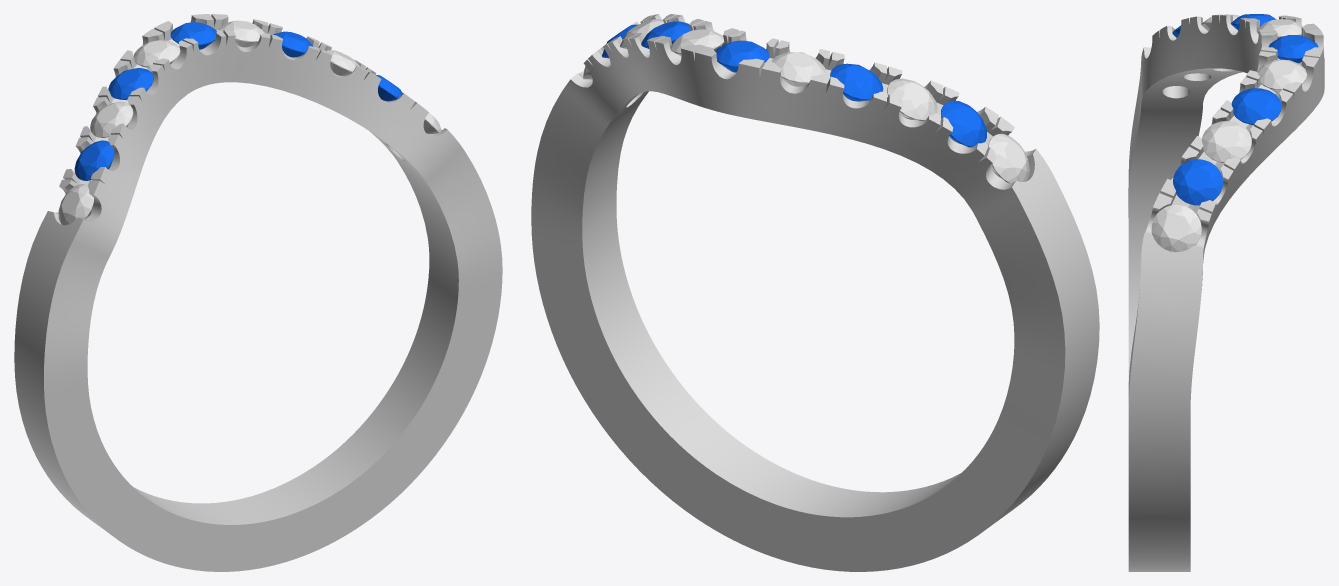
File: DaniellePTwb1_blender.glb
3 views of the same model, side by side, from view 1: azimuth 30°, elevation 25°; view 2: azimuth 150°, elevation 25°; view 3: azimuth 270°, elevation 25° (orthographic). The views are drawn at different scales.
Parts seen in each view (by area): view 1: Danielle 1 PT for 3d model, Danielle sapph wb for 3d model.004, Danielle dia for 3d model.005, Danielle dia for 3d model.004, Danielle sapph wb for 3d model.003, Danielle dia for 3d model.003, Danielle sapph wb for 3d model.002, Danielle dia for 3d model.002, Danielle sapph wb for 3d model.001; view 2: Danielle 1 PT for 3d model, Danielle dia for 3d model.005, Danielle sapph wb for 3d model.004, Danielle dia for 3d model.004, Danielle sapph wb for 3d model.003, Danielle dia for 3d model.003, Danielle sapph wb for 3d model.002, Danielle dia for 3d model.002; view 3: Danielle 1 PT for 3d model, Danielle dia for 3d model, Danielle sapph wb for 3d model, Danielle dia for 3d model.001, Danielle sapph wb for 3d model.001, Danielle dia for 3d model.002, Danielle sapph wb for 3d model.002, Danielle dia for 3d model.003, Danielle sapph wb for 3d model.003.
Part boxes in pixels (x1=…): Danielle 1 PT for 3d model: x1=14, y1=14, x2=502, y2=571; Danielle sapph wb for 3d model.004: x1=74, y1=140, x2=114, y2=180; Danielle dia for 3d model.005: x1=58, y1=184, x2=93, y2=225; Danielle dia for 3d model.004: x1=90, y1=101, x2=133, y2=137; Danielle sapph wb for 3d model.003: x1=108, y1=68, x2=153, y2=99; Danielle dia for 3d model.003: x1=133, y1=40, x2=180, y2=68; Danielle sapph wb for 3d model.002: x1=170, y1=22, x2=216, y2=49; Danielle dia for 3d model.002: x1=219, y1=20, x2=264, y2=47; Danielle sapph wb for 3d model.001: x1=270, y1=31, x2=313, y2=57; Danielle 1 PT for 3d model: x1=531, y1=14, x2=1099, y2=571; Danielle dia for 3d model.005: x1=988, y1=134, x2=1029, y2=183; Danielle sapph wb for 3d model.004: x1=941, y1=100, x2=986, y2=147; Danielle dia for 3d model.004: x1=887, y1=78, x2=937, y2=120; Danielle sapph wb for 3d model.003: x1=830, y1=63, x2=883, y2=100; Danielle dia for 3d model.003: x1=771, y1=52, x2=825, y2=86; Danielle sapph wb for 3d model.002: x1=715, y1=40, x2=769, y2=72; Danielle dia for 3d model.002: x1=670, y1=29, x2=724, y2=55; Danielle 1 PT for 3d model: x1=1128, y1=15, x2=1324, y2=571; Danielle dia for 3d model: x1=1151, y1=205, x2=1201, y2=252; Danielle sapph wb for 3d model: x1=1173, y1=159, x2=1222, y2=205; Danielle dia for 3d model.001: x1=1201, y1=121, x2=1251, y2=162; Danielle sapph wb for 3d model.001: x1=1231, y1=88, x2=1281, y2=124; Danielle dia for 3d model.002: x1=1257, y1=59, x2=1306, y2=92; Danielle sapph wb for 3d model.002: x1=1268, y1=35, x2=1318, y2=63; Danielle dia for 3d model.003: x1=1256, y1=19, x2=1302, y2=38; Danielle sapph wb for 3d model.003: x1=1231, y1=14, x2=1276, y2=30.
Size of the model in its own units: 18.89 by 18.92 by 6.65.
